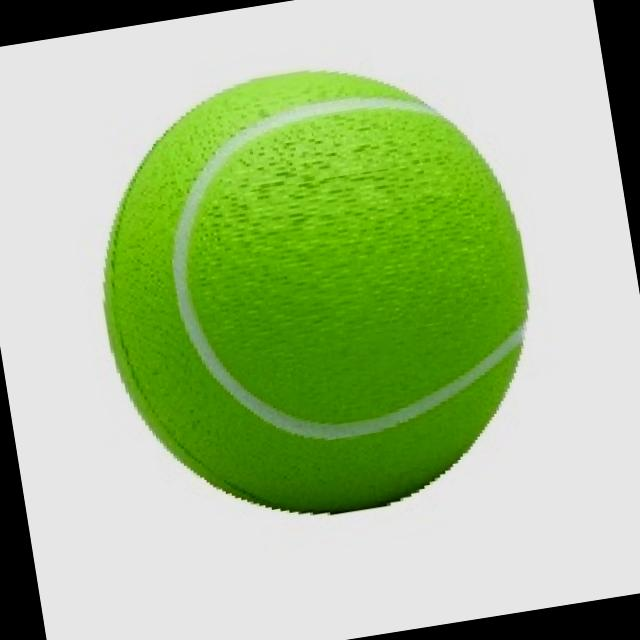Tennis Ball: (102, 72, 532, 518)
